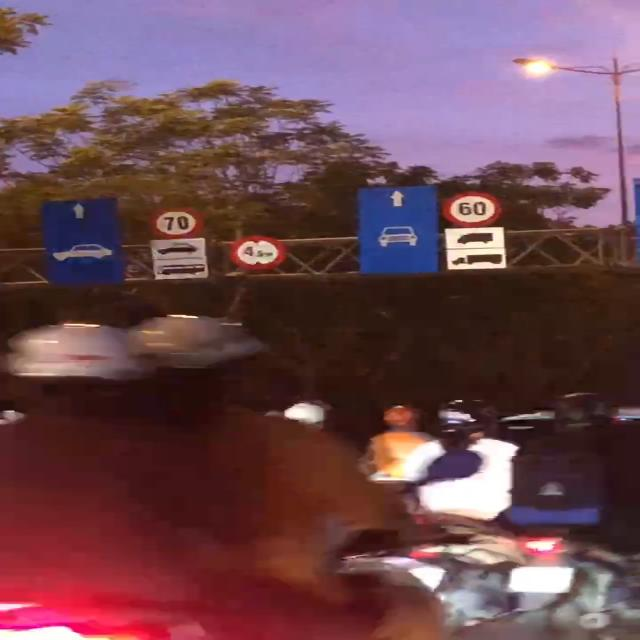Bien bao toc do toi da cho phep: (436, 191, 510, 230), (143, 208, 210, 242)
